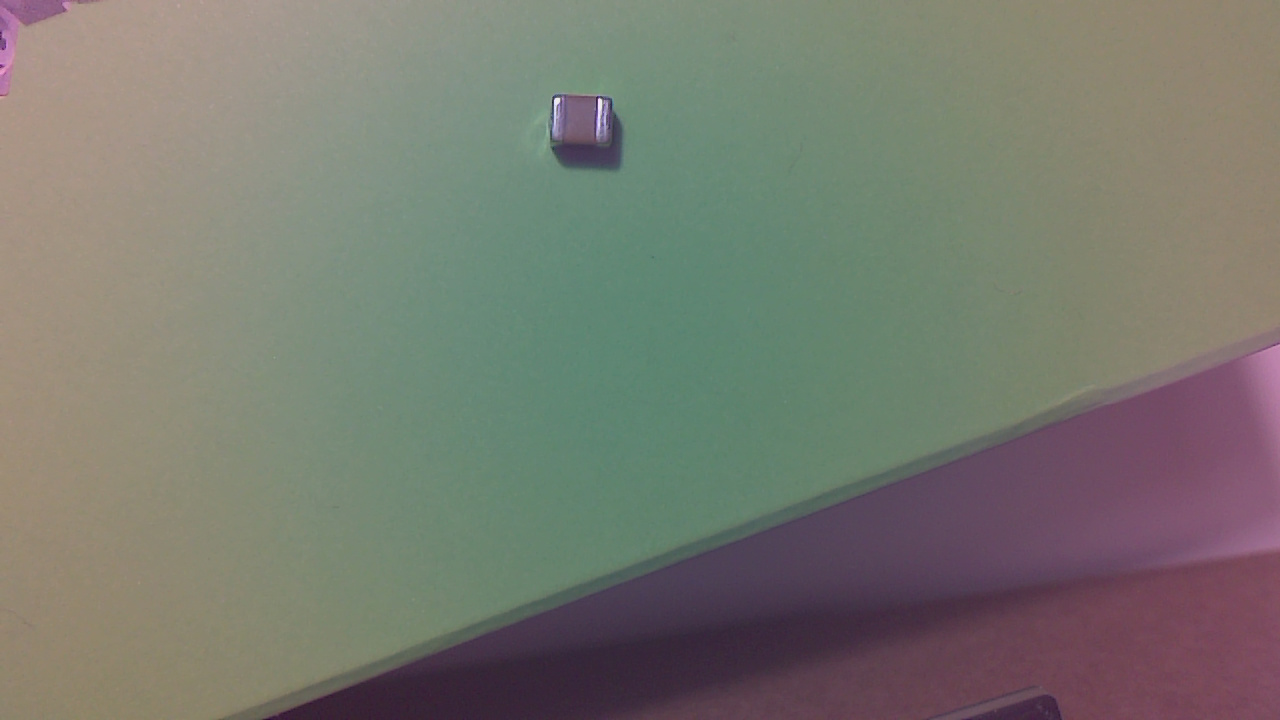Condensator: (552, 95, 619, 159)
